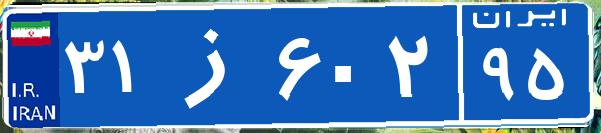0: (330, 28, 385, 110)
1: (110, 28, 158, 105)
2: (385, 28, 445, 110)
3: (57, 26, 110, 107)
5: (525, 38, 570, 115)
6: (273, 28, 330, 110)
9: (475, 38, 525, 113)
ز: (158, 15, 273, 115)
